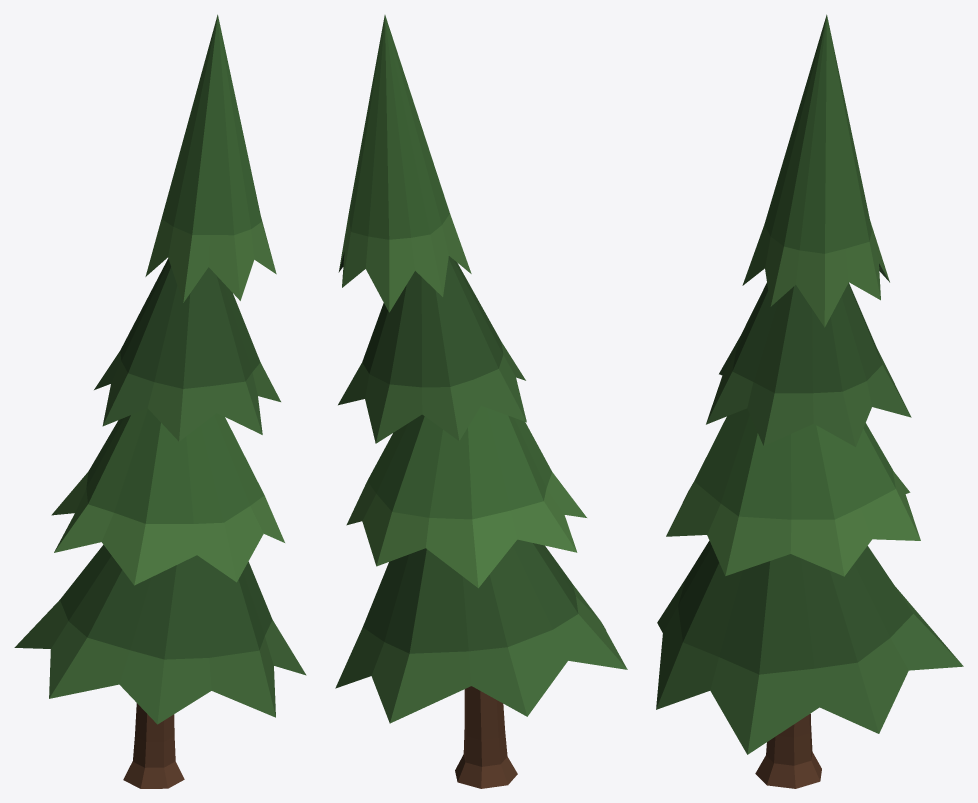
The model's file is World_PineMid.fbx.
3 views of the same model, side by side, from view 1: azimuth 30°, elevation 25°; view 2: azimuth 150°, elevation 25°; view 3: azimuth 270°, elevation 25° (orthographic). The views are drawn at different scales.
Visible parts, largest first — view 1: FoliageA, FoliageB, TipsA, TipsB, Trunk; view 2: FoliageA, FoliageB, TipsA, TipsB, Trunk; view 3: FoliageA, FoliageB, TipsA, TipsB, Trunk.
Boxes of the visible parts, x1,y1,x2,y2 form: FoliageA: (60,258,272,659); FoliageB: (86,14,264,523); TipsA: (14,351,306,724); TipsB: (51,217,284,585); Trunk: (123,703,184,788); FoliageA: (362,256,578,653); FoliageB: (349,15,551,519); TipsA: (335,342,627,723); TipsB: (339,213,586,588); Trunk: (455,686,517,788); FoliageA: (678,282,913,674); FoliageB: (694,14,895,519); TipsA: (656,336,963,754); TipsB: (666,221,920,576); Trunk: (755,713,821,788).
Size of the model in its own units: 693 by 1899 by 659.
